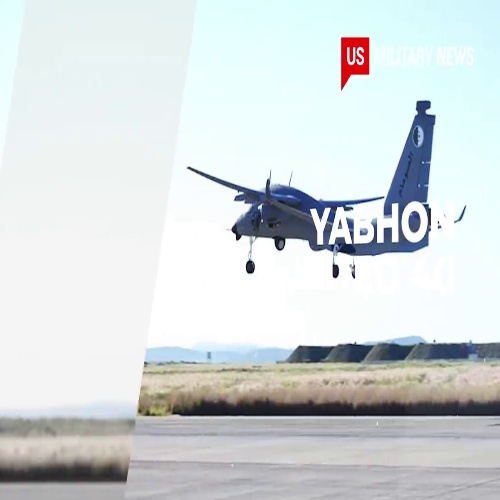uav40: (189, 97, 440, 274)
